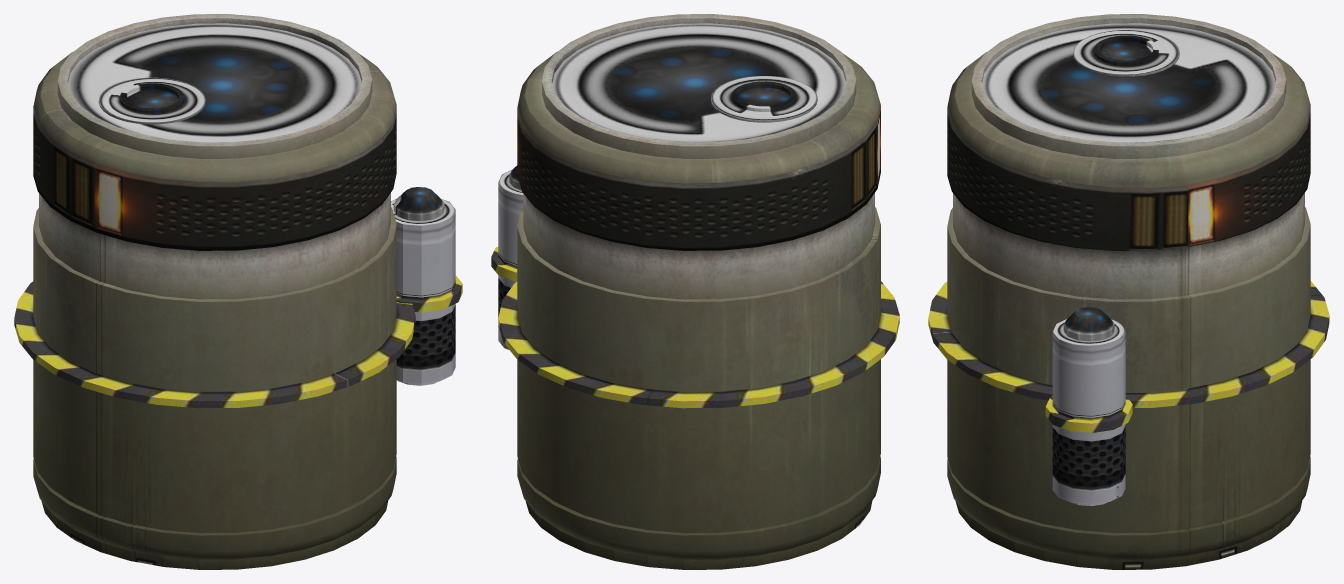
The model's file is gas.FBX.
3 views of the same model, side by side, from view 1: azimuth 30°, elevation 25°; view 2: azimuth 150°, elevation 25°; view 3: azimuth 270°, elevation 25° (orthographic).
Parts seen in each view (by area): view 1: gas; view 2: gas; view 3: gas.
Part boxes in pixels (bbox=[...]): gas: bbox=[14, 14, 462, 569]; gas: bbox=[491, 14, 899, 569]; gas: bbox=[928, 14, 1329, 569].
Size of the model in its own units: 79.76 by 80.64 by 70.16.
1 material, 1 textured.
